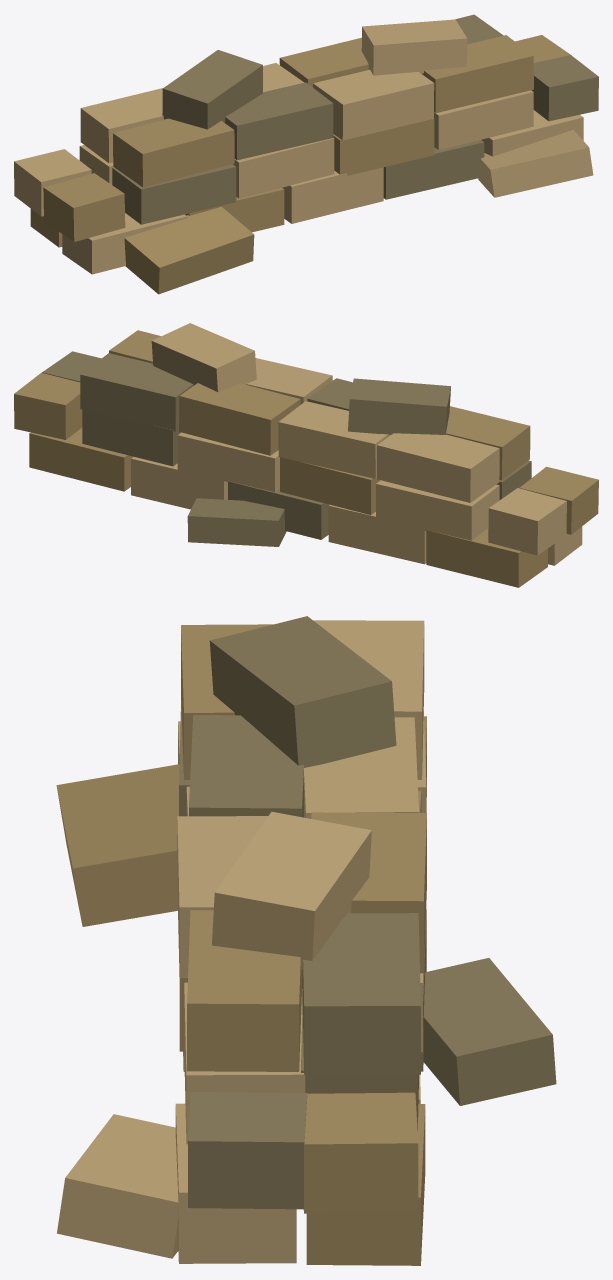
Rendered from sandbag-wall.glb.
3 renders of one model, top to bottom at view 1: azimuth 30°, elevation 25°; view 2: azimuth 150°, elevation 25°; view 3: azimuth 270°, elevation 25°, orthographic. The views are drawn at different scales.
Parts seen in each view (by area): view 1: Mesh_Bag30, Mesh_Bag22, Mesh_Bag24, Mesh_Bag23, Mesh_Bag33, Mesh_Bag25, Mesh_Bag34, Mesh_Bag31, Mesh_Bag10, Mesh_Bag14, Mesh_Bag11, Mesh_Bag13 (+15 smaller); view 2: Mesh_Bag26, Mesh_Bag28, Mesh_Bag29, Mesh_Bag27, Mesh_Bag33, Mesh_Bag34, Mesh_Bag16, Mesh_Bag5, Mesh_Bag32, Mesh_Bag20, Mesh_Bag9, Mesh_Bag18 (+14 smaller); view 3: Mesh_Bag33, Mesh_Bag29, Mesh_Bag34, Mesh_Bag30, Mesh_Bag25, Mesh_Bag32, Mesh_Bag21, Mesh_Bag15, Mesh_Bag31, Mesh_Bag23, Mesh_Bag4, Mesh_Bag28 (+7 smaller).
Boxes of the visible parts, x1,y1,x2,y2 form: Mesh_Bag30: (124, 206, 254, 294); Mesh_Bag22: (113, 118, 234, 187); Mesh_Bag24: (313, 69, 434, 140); Mesh_Bag23: (224, 82, 333, 160); Mesh_Bag33: (162, 50, 262, 129); Mesh_Bag25: (421, 35, 533, 112); Mesh_Bag34: (361, 19, 467, 75); Mesh_Bag31: (478, 129, 593, 197); Mesh_Bag10: (112, 164, 236, 224); Mesh_Bag14: (43, 173, 125, 241); Mesh_Bag11: (233, 138, 334, 198); Mesh_Bag13: (434, 90, 533, 149); Mesh_Bag26: (377, 433, 499, 502); Mesh_Bag28: (179, 383, 300, 455); Mesh_Bag29: (80, 353, 193, 431); Mesh_Bag27: (278, 401, 390, 478); Mesh_Bag33: (348, 378, 450, 434); Mesh_Bag34: (151, 323, 256, 391); Mesh_Bag16: (376, 480, 499, 540); Mesh_Bag5: (426, 528, 547, 587); Mesh_Bag32: (187, 498, 286, 546); Mesh_Bag20: (488, 488, 566, 555); Mesh_Bag9: (29, 427, 133, 491); Mesh_Bag18: (177, 432, 279, 491); Mesh_Bag33: (209, 616, 396, 767); Mesh_Bag29: (302, 913, 420, 1075); Mesh_Bag34: (212, 811, 371, 969); Mesh_Bag30: (56, 764, 179, 926); Mesh_Bag25: (187, 910, 302, 1071); Mesh_Bag32: (423, 958, 556, 1105); Mesh_Bag21: (303, 1092, 418, 1213); Mesh_Bag15: (188, 1092, 307, 1209); Mesh_Bag31: (57, 1114, 178, 1258); Mesh_Bag23: (189, 715, 303, 817); Mesh_Bag4: (175, 1103, 296, 1263); Mesh_Bag28: (311, 812, 426, 973).
Size of the model in its own units: 2.13 by 0.5832 by 0.8744.
